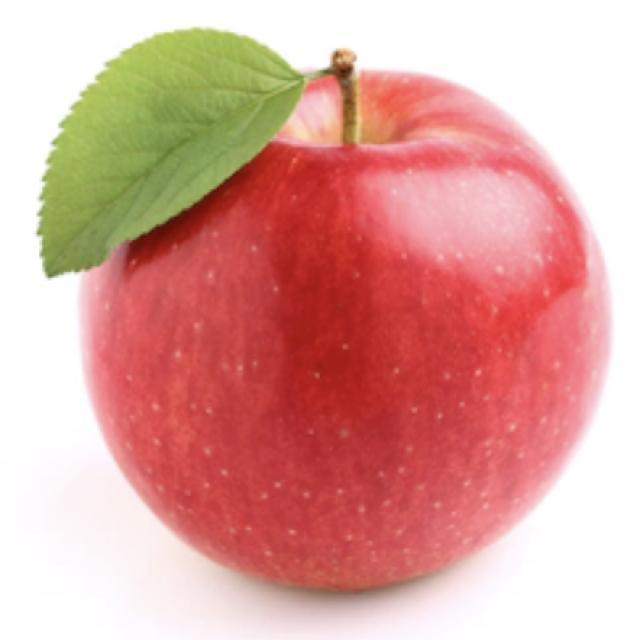Fresh Apple: (88, 54, 597, 594)
